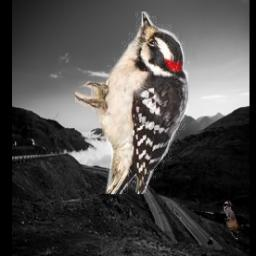Woodpecker: (75, 12, 188, 194), (224, 201, 248, 240)
